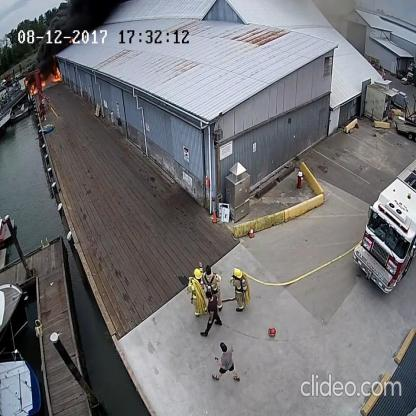fire: (41, 63, 63, 91), (23, 77, 39, 97)
